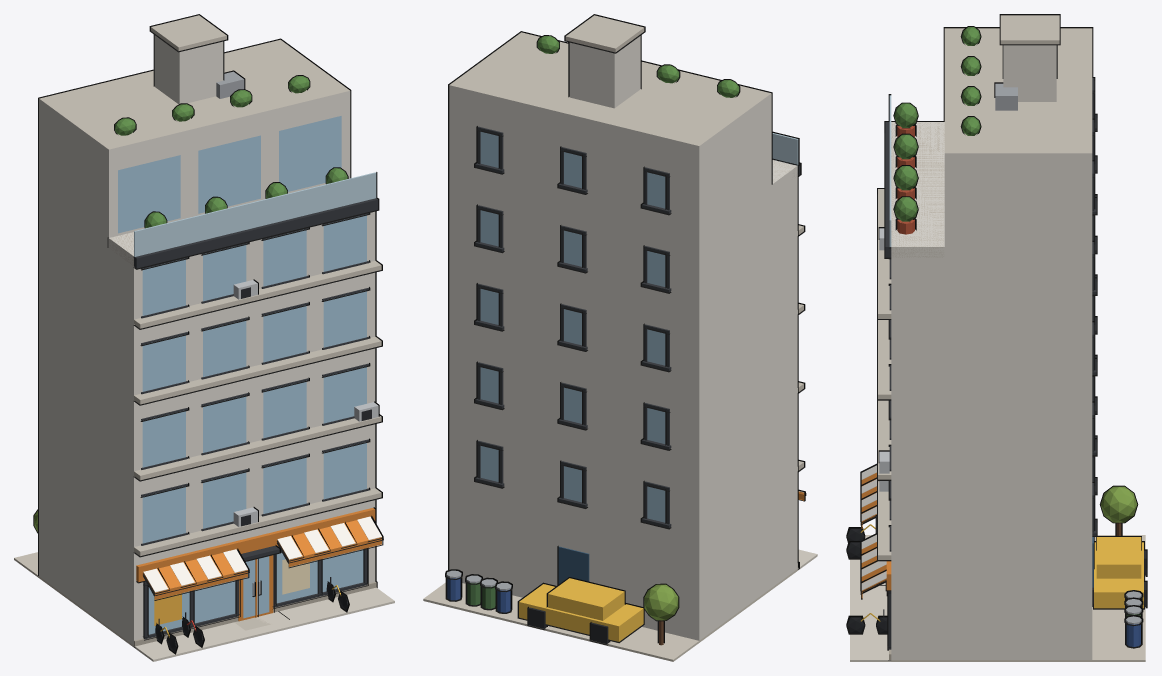
Rendered from Blok_duz_6k_7.fbx.
The picture shows the model from 3 angles, left to right: view 1: azimuth 30°, elevation 25°; view 2: azimuth 150°, elevation 25°; view 3: azimuth 270°, elevation 25°; orthographic projection. The views are drawn at different scales.
Visible parts, largest first — view 1: Blok_duz_6k_7; view 2: Blok_duz_6k_7; view 3: Blok_duz_6k_7.
Boxes of the visible parts, x1,y1,x2,y2 form: Blok_duz_6k_7: (14,14,394,661); Blok_duz_6k_7: (423,14,817,661); Blok_duz_6k_7: (846,14,1147,661).
Bounding box in the file's own units: 10.06 × 21.43 × 10.19.
